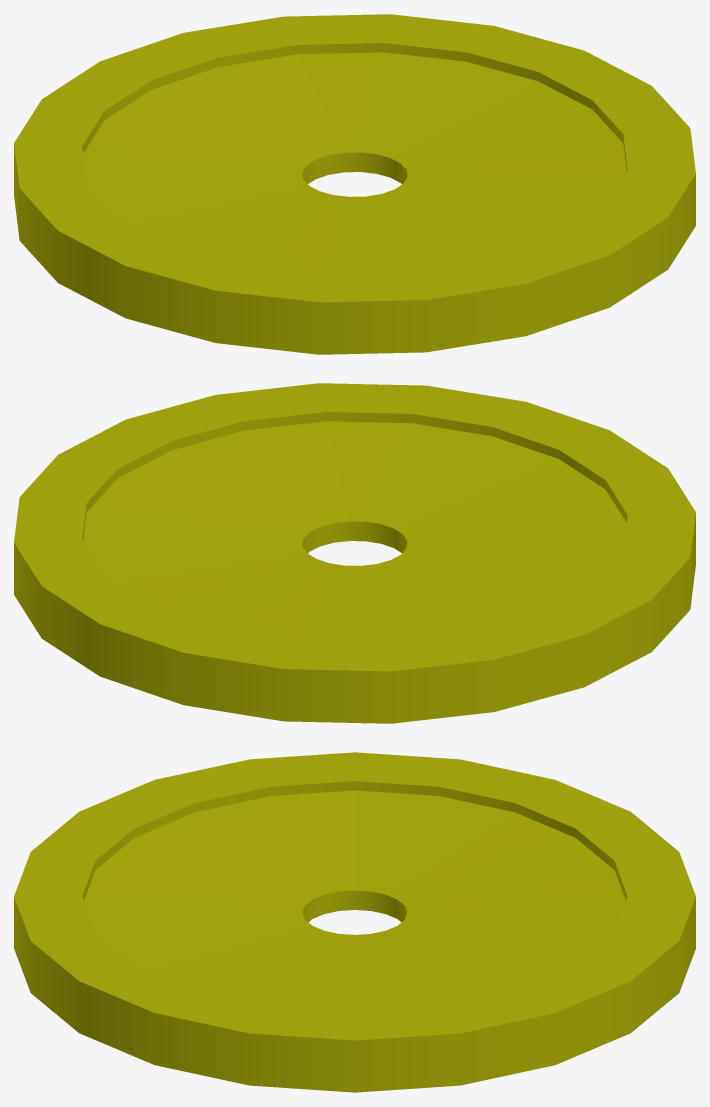
File: Coin.fbx
3 views of the same model, one above another, from view 1: azimuth 30°, elevation 25°; view 2: azimuth 150°, elevation 25°; view 3: azimuth 270°, elevation 25° (orthographic).
Visible parts, largest first — view 1: pPipe1; view 2: pPipe1; view 3: pPipe1.
Boxes of the visible parts, bbox=[...] form: pPipe1: bbox=[14, 14, 695, 354]; pPipe1: bbox=[14, 383, 695, 723]; pPipe1: bbox=[14, 752, 695, 1092].
Size of the model in its own units: 2 by 0.1686 by 2.
